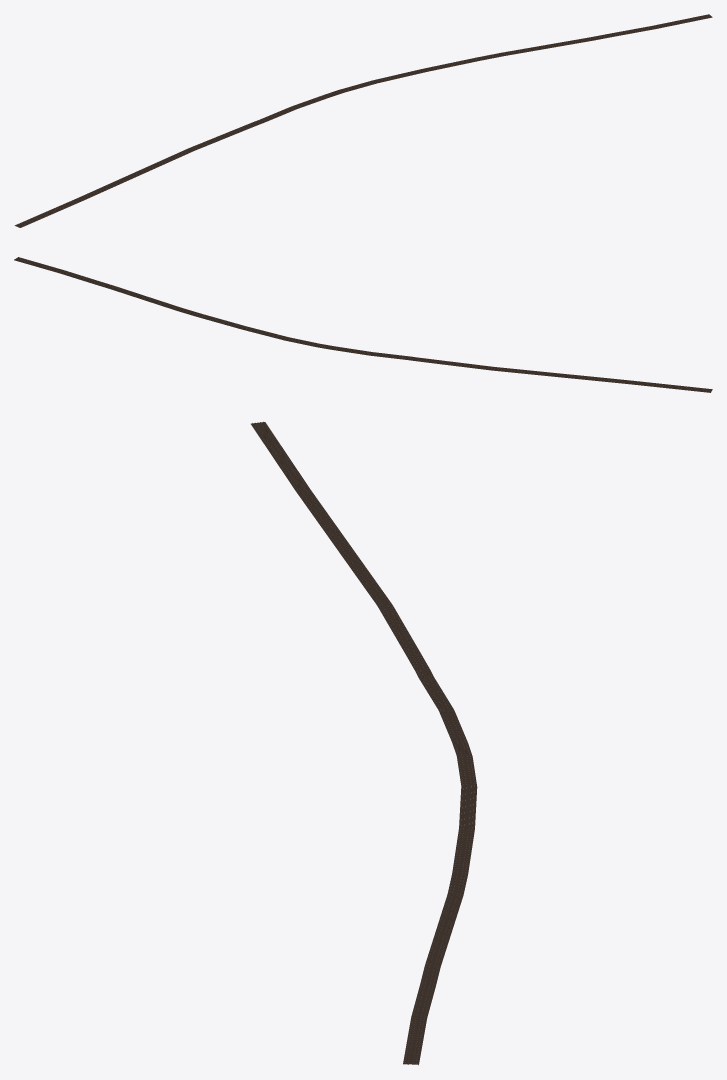
Rendered from kobe_0034.glb.
3 views of the same model, one above another, from view 1: azimuth 30°, elevation 25°; view 2: azimuth 150°, elevation 25°; view 3: azimuth 270°, elevation 25° (orthographic). The views are drawn at different scales.
Parts seen in each view (by area): view 1: ballast_top, oxidised_rail_profiles; view 2: ballast_top, oxidised_rail_profiles, ballast_left; view 3: ballast_top, oxidised_rail_profiles.
Boxes of the visible parts, x1,y1,x2,y2 form: ballast_top: [14, 14, 712, 227]; oxidised_rail_profiles: [15, 14, 711, 226]; ballast_top: [14, 257, 712, 392]; oxidised_rail_profiles: [15, 257, 711, 391]; ballast_left: [14, 259, 710, 392]; ballast_top: [251, 422, 476, 1064]; oxidised_rail_profiles: [252, 422, 474, 1063].
Size of the model in its own units: 742 by 0.819 by 111.
Materials: 4 (3 with a texture image).
